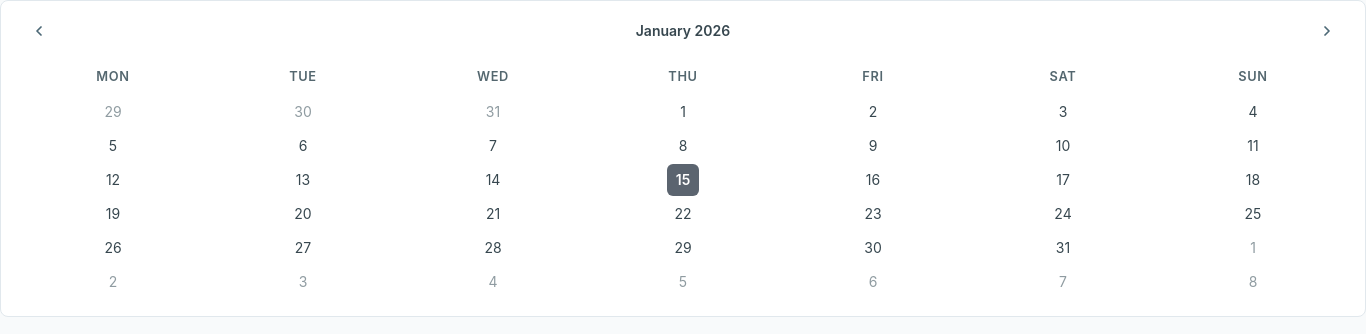
Calendar — month navigation buttons › crosses the year boundary correctly
Click the button named "previous month".
click(39, 31)  # box [25,17,53,45]
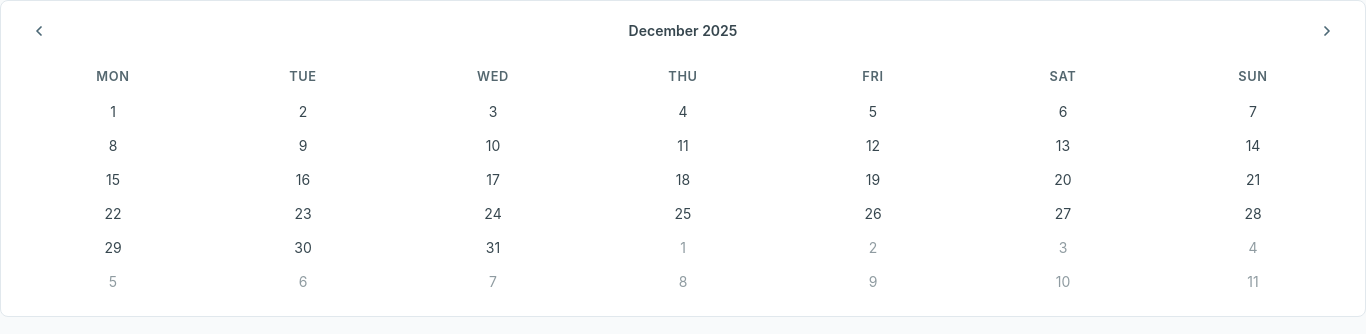
Expected: the number of buttons named "Previous month" is 2, [25,17,53,45]; [1313,17,1341,45]
Now the text "December 2025" is shown, box [629,22,737,39]
